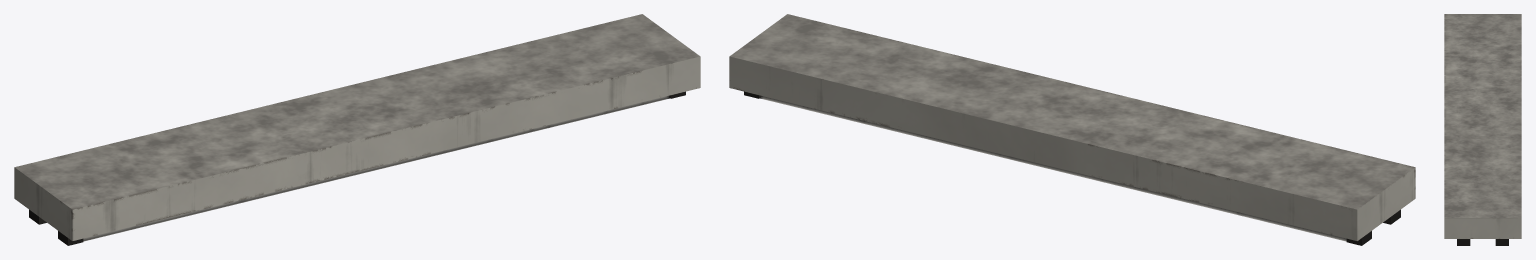
The model's file is SM_FluorescentLight.fbx.
The picture shows the model from 3 angles, left to right: view 1: azimuth 30°, elevation 25°; view 2: azimuth 150°, elevation 25°; view 3: azimuth 270°, elevation 25°; orthographic projection. The views are drawn at different scales.
Visible parts, largest first — view 1: SM_FluorescentLight; view 2: SM_FluorescentLight; view 3: SM_FluorescentLight.
Part boxes in pixels (left/top/right/bottom): SM_FluorescentLight: left=14, top=14, right=700, bottom=245; SM_FluorescentLight: left=729, top=14, right=1415, bottom=245; SM_FluorescentLight: left=1444, top=14, right=1521, bottom=245.
Size of the model in its own units: 1.25 by 0.091 by 0.2.
Materials: 1 (1 with a texture image).
